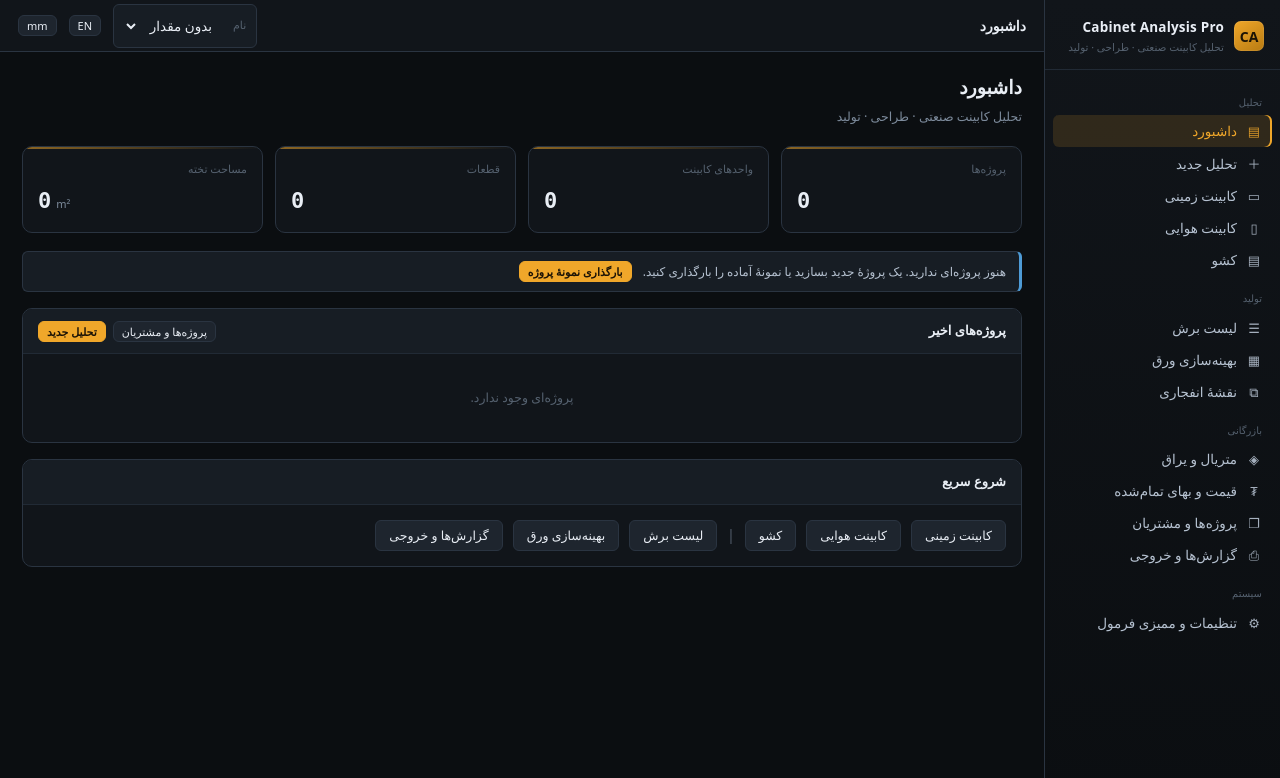
Test: ground cabinet screen › shows the original Excel formula in the audit table
What coordinates should you click on to do the following:
click the button "بارگذاری نمونهٔ پروژه"
I would click on:
 (575, 272)
Its box is [519, 261, 632, 282].
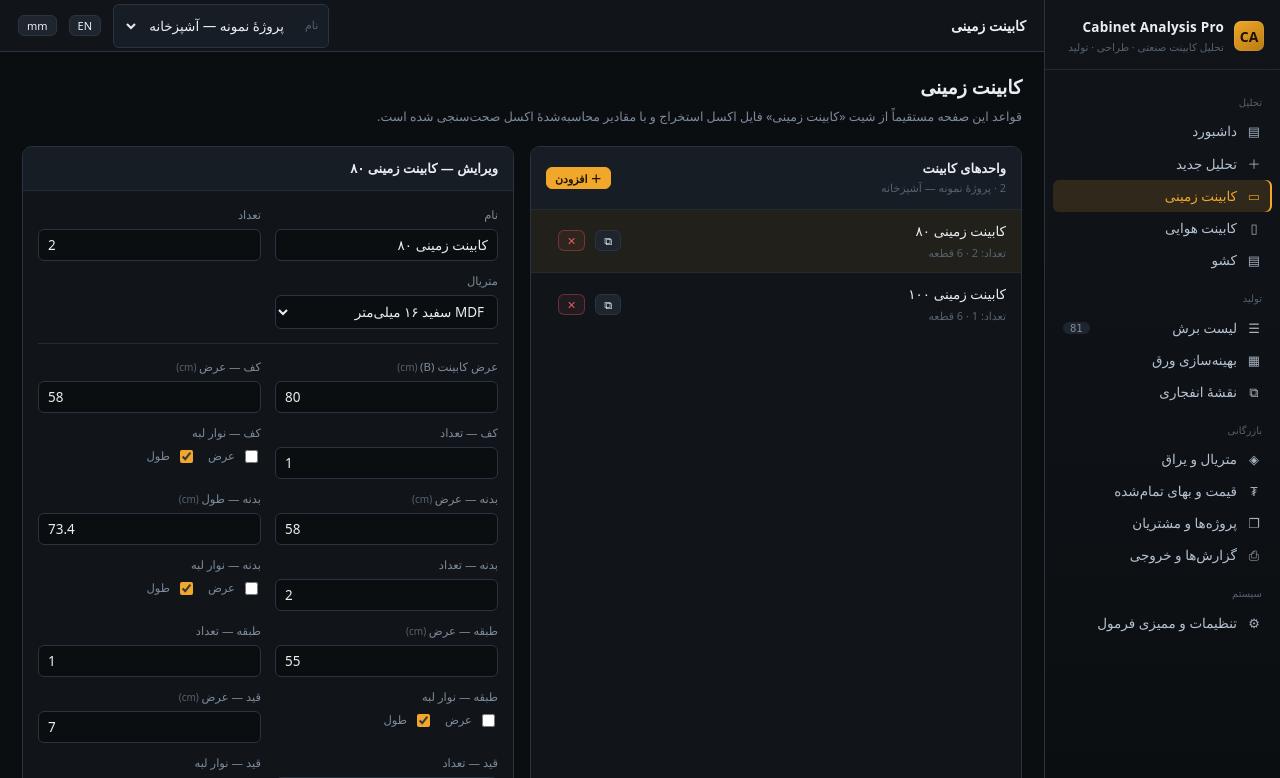
What coordinates should you click on to do the following:
click the button "▭ کابینت زمینی"
I would click on:
 (1162, 196)
Its box is [1053, 180, 1272, 212].
(page scrolled)
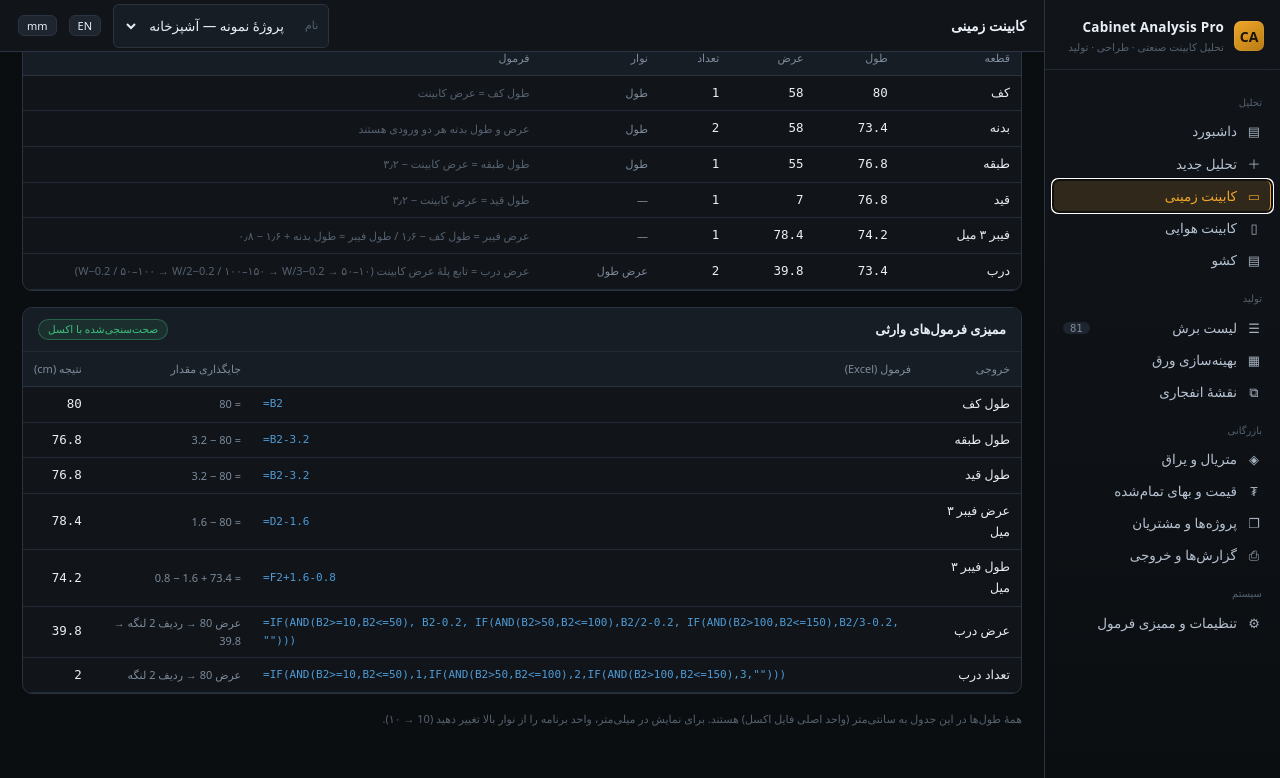
Expected: the 1st text "=B2-3.2" is shown, [252, 422, 922, 458]
